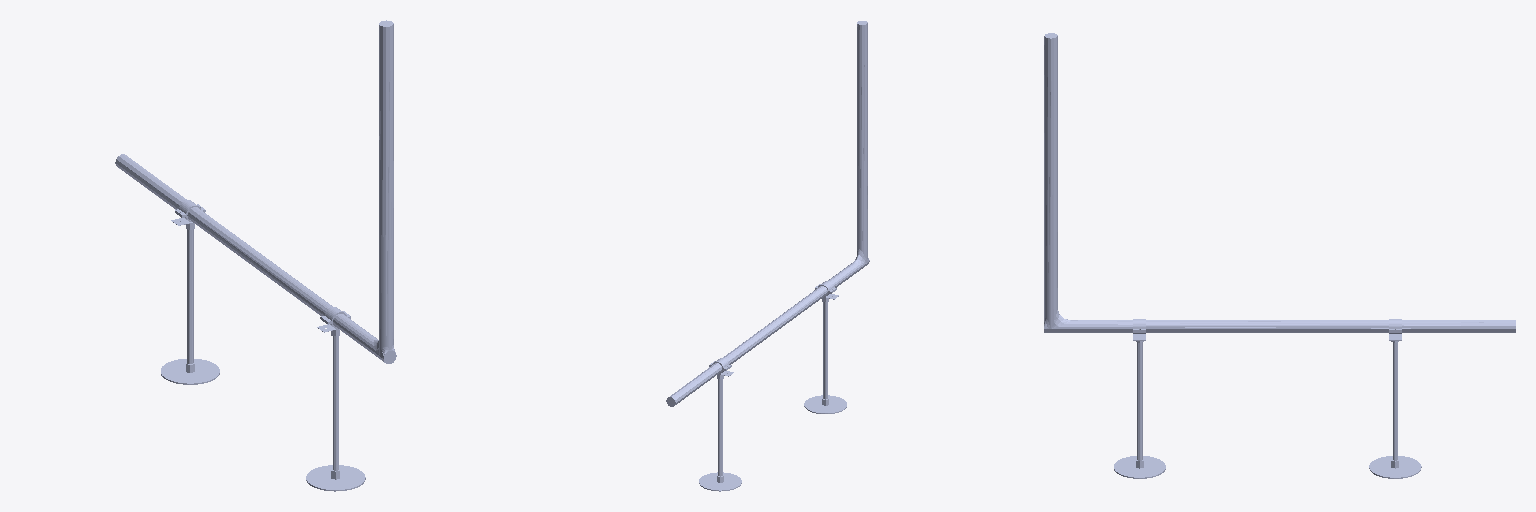
The robot description file, URDF, robot "niot_gate":
<robot
  name="niot_gate">
  <link
    name="base_link">
    <inertial>
      <origin
        xyz="0.59925 1.9935 3.0866"
        rpy="0 0 0" />
      <mass
        value="7.0204" />
      <inertia
        ixx="0.63174"
        ixy="-7.3439E-08"
        ixz="-3.642E-08"
        iyy="0.29249"
        iyz="-0.14908"
        izz="0.33925" />
    </inertial>
    <visual>
      <origin
        xyz="0 0 0"
        rpy="0 0 0" />
      <geometry>
        <mesh
          filename="package://niot_gate/meshes/base_link.STL" />
      </geometry>
      <material
        name="">
        <color
          rgba="0.79216 0.81961 0.93333 1" />
      </material>
    </visual>
    <collision>
      <origin
        xyz="0 0 0"
        rpy="0 0 0" />
      <geometry>
        <mesh
          filename="package://niot_gate/meshes/base_link.STL" />
      </geometry>
    </collision>
  </link>
  <gazebo reference="base_link">
    <material>Gazebo/Red</material>
  </gazebo>
  <gazebo>
    <static>true</static>
  </gazebo>
</robot>

--- Render facts (derived) ---
The picture shows the robot from 3 angles, left to right: view 1: azimuth 30°, elevation 25°; view 2: azimuth 150°, elevation 25°; view 3: azimuth 270°, elevation 25°; orthographic projection.
Model niot_gate with 1 links and 0 joints (none), rooted at base_link, posed every joint at zero.
Visible links, largest first — view 1: base_link; view 2: base_link; view 3: base_link.
Link boxes in pixels (x1,y1,x2,y2): base_link: (115,20,396,491); base_link: (666,21,869,491); base_link: (1044,33,1515,478).
Size in the robot's own frame: 0.1998 by 1.8 by 1.82 metres.
1 mesh visuals loaded from 1 distinct referenced files (1 binary STL).
